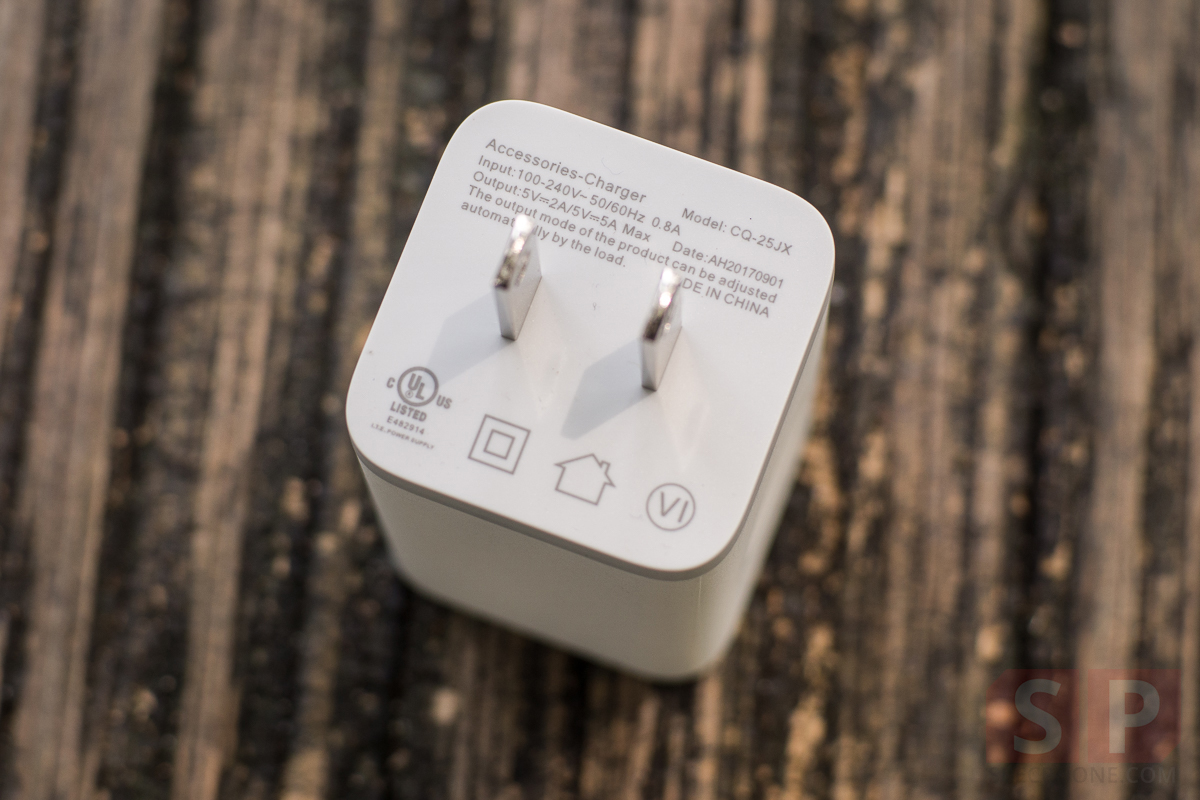Three_eye_plug: (328, 84, 866, 707)
